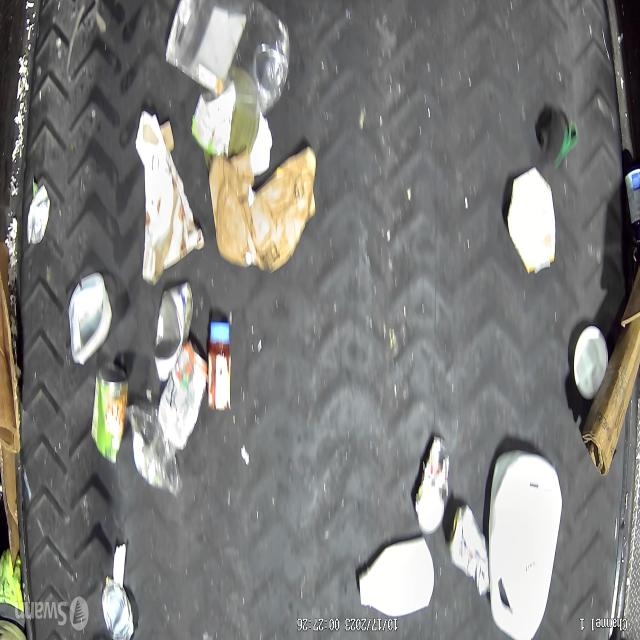can: (158, 339, 208, 451), (154, 280, 194, 382), (449, 503, 489, 598), (94, 367, 128, 460), (101, 578, 134, 640)
milk_jug: (485, 448, 560, 638)
